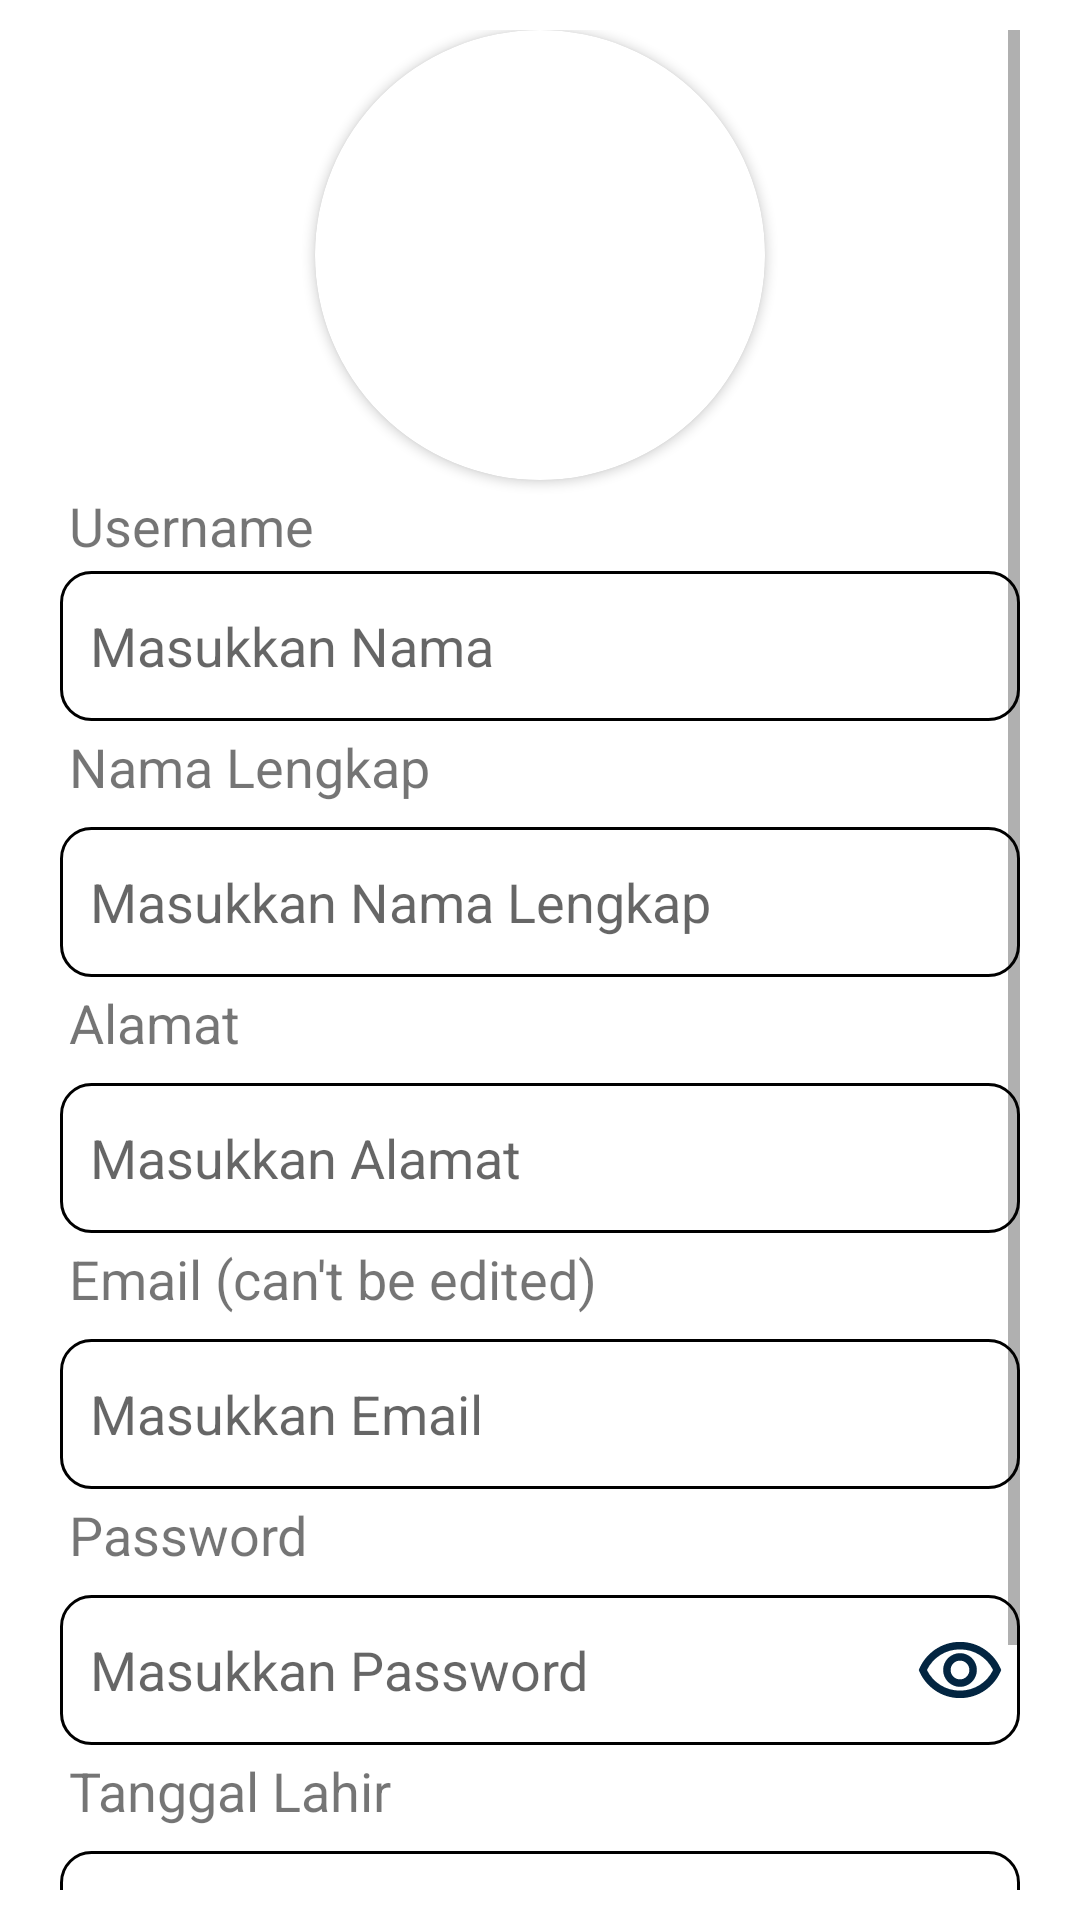

Screen size 1080 x 1920. Icon name, then its center in pixels as point (x, y):
see password: point (960, 1670)
